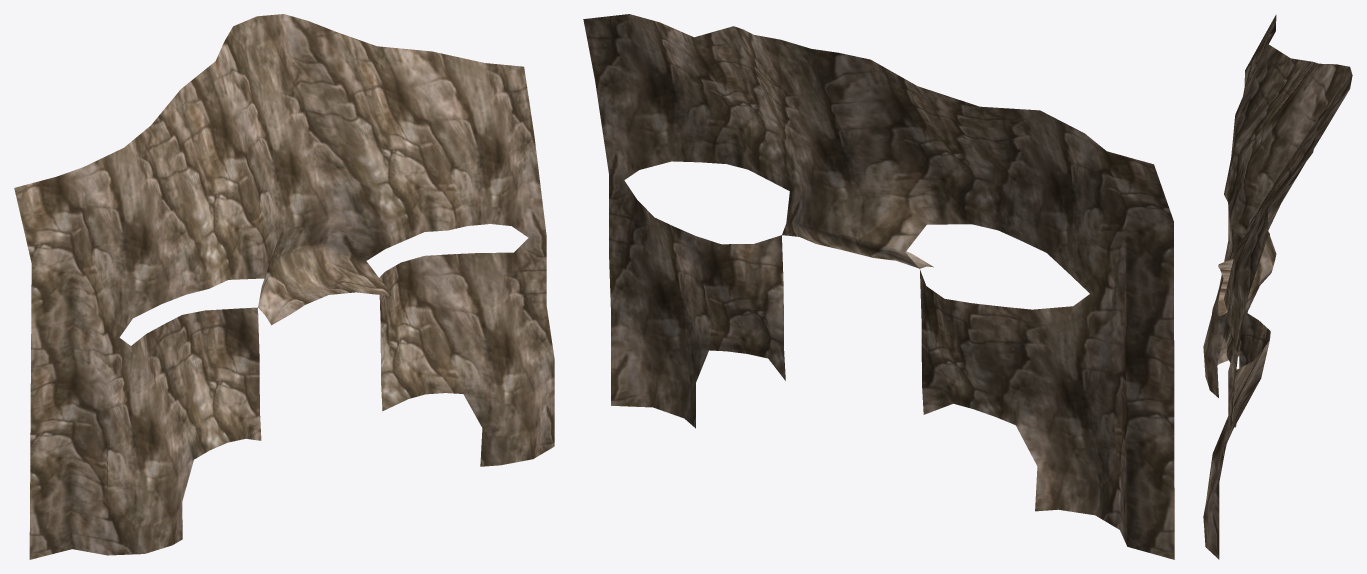
The model's file is EKH_ENTRANCE_PS_EN_WALL_005.fbx.
The picture shows the model from 3 angles, left to right: view 1: azimuth 30°, elevation 25°; view 2: azimuth 150°, elevation 25°; view 3: azimuth 270°, elevation 25°; orthographic projection. The views are drawn at different scales.
Parts seen in each view (by area): view 1: EKH_ENTRANCE_PS_EN_WALL_005; view 2: EKH_ENTRANCE_PS_EN_WALL_005; view 3: EKH_ENTRANCE_PS_EN_WALL_005.
Boxes of the visible parts, x1=… form: EKH_ENTRANCE_PS_EN_WALL_005: x1=14, y1=14, x2=554, y2=559; EKH_ENTRANCE_PS_EN_WALL_005: x1=583, y1=14, x2=1174, y2=559; EKH_ENTRANCE_PS_EN_WALL_005: x1=1203, y1=14, x2=1352, y2=559.
Size of the model in its own units: 233724 by 189291 by 65906.
1 material, 1 textured.
